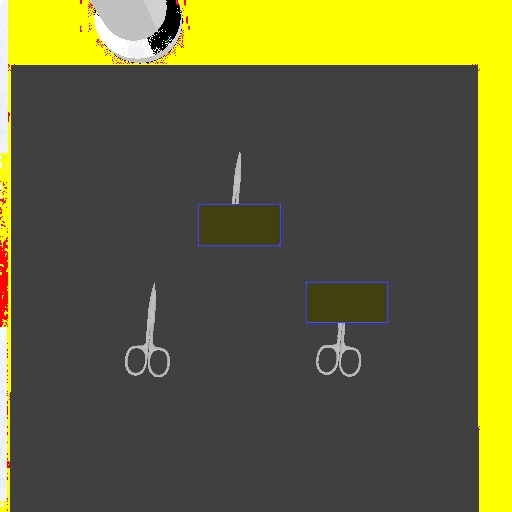tijera: (120, 279, 178, 384), (311, 322, 366, 382), (225, 148, 248, 204)
